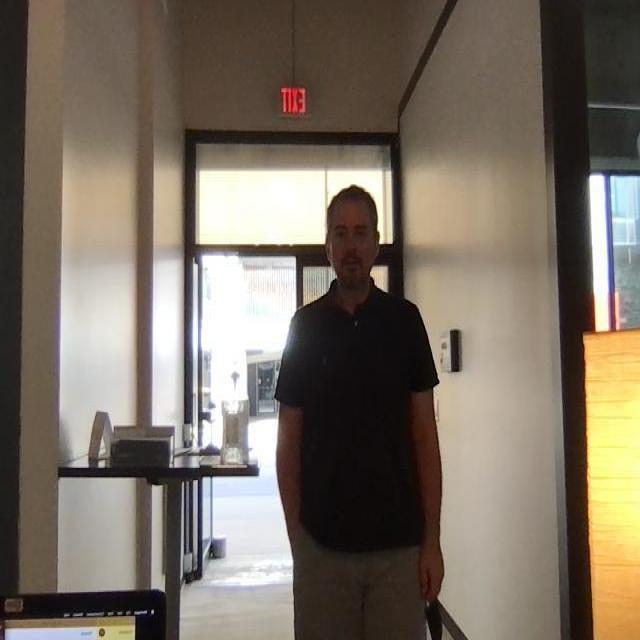face: (325, 189, 380, 288)
